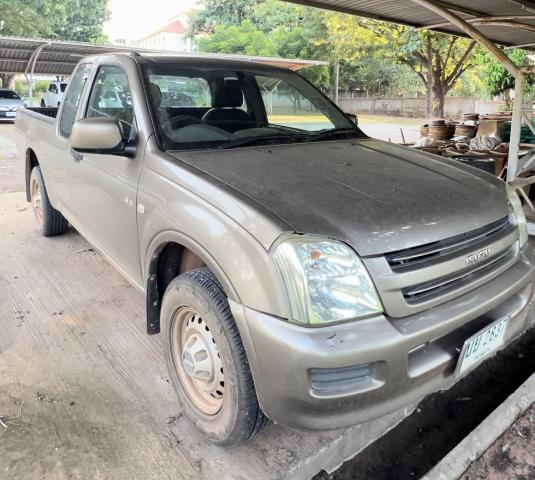pickup-truck: (10, 36, 535, 451)
